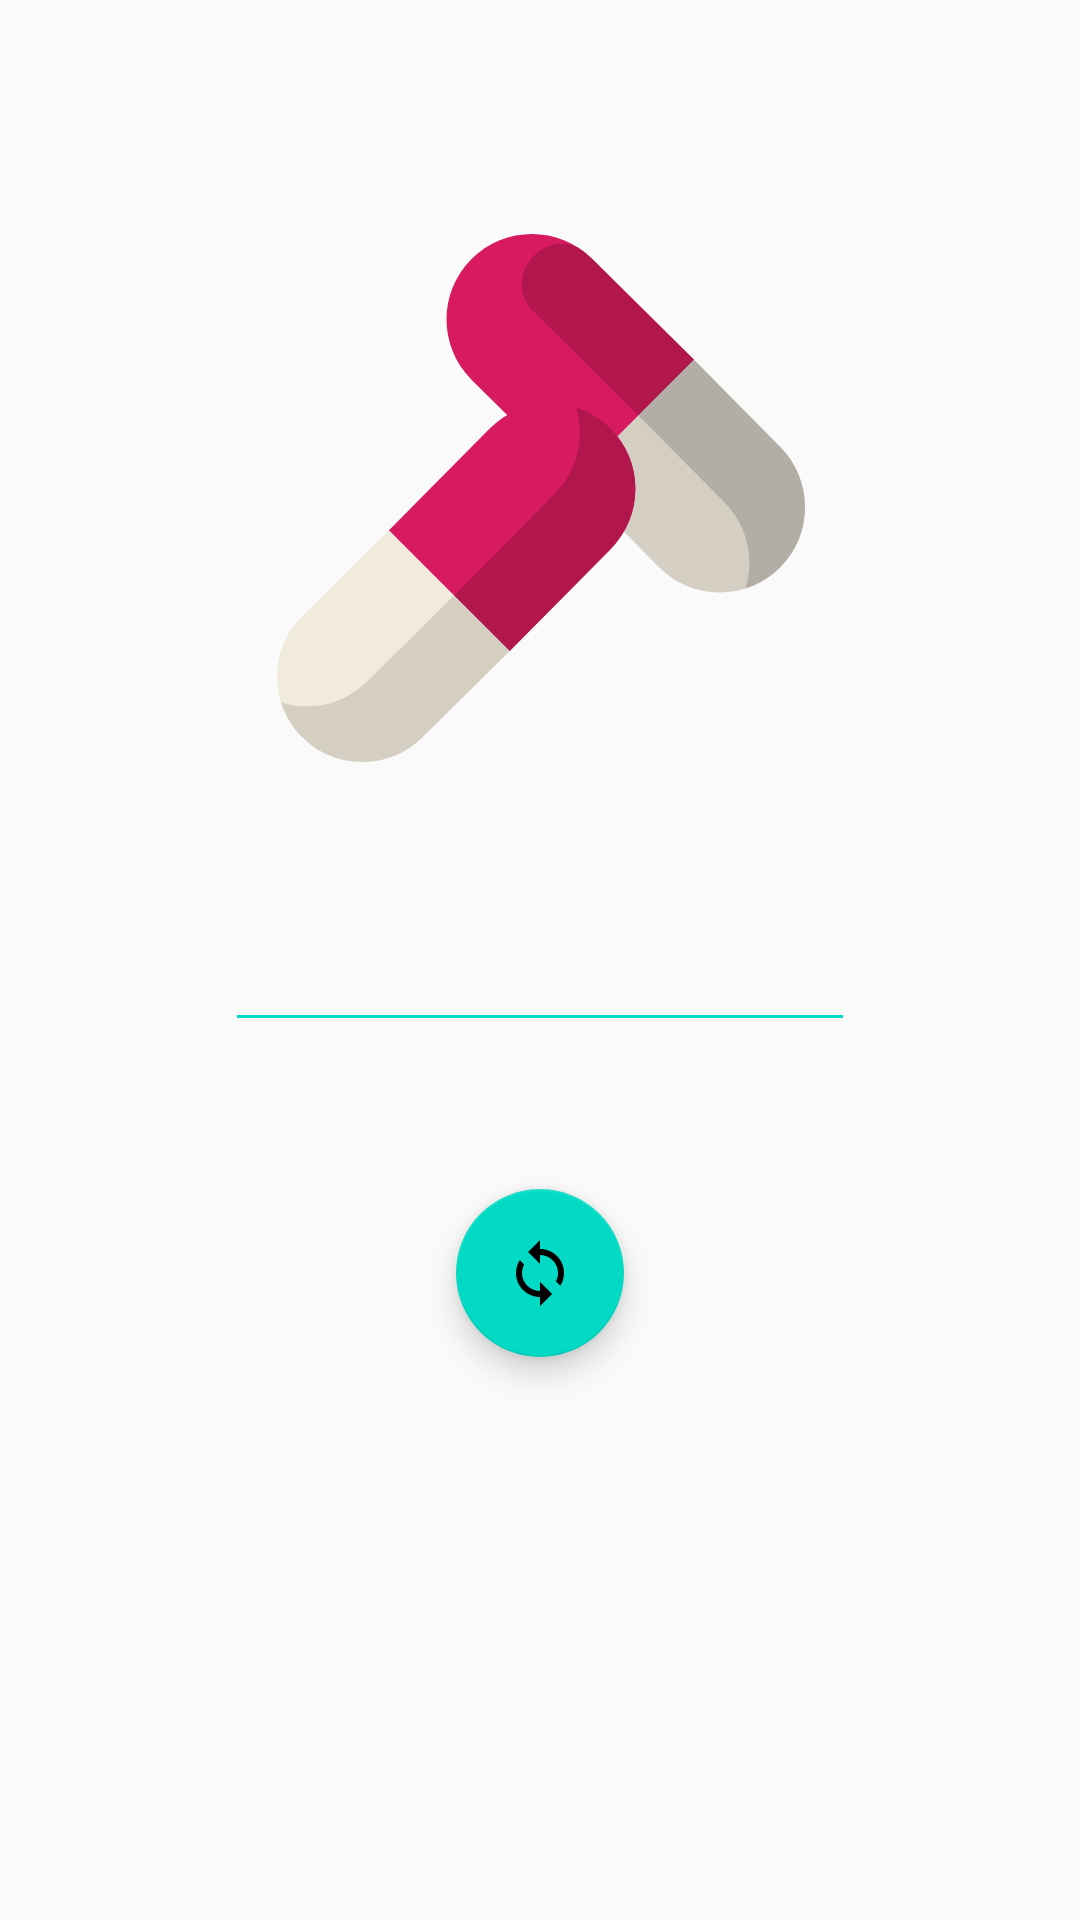

Screen size 1080x1920. Icon name, then its box in pixels as (x1, y1, x2, y2):
sync: (456, 1189, 624, 1357)
